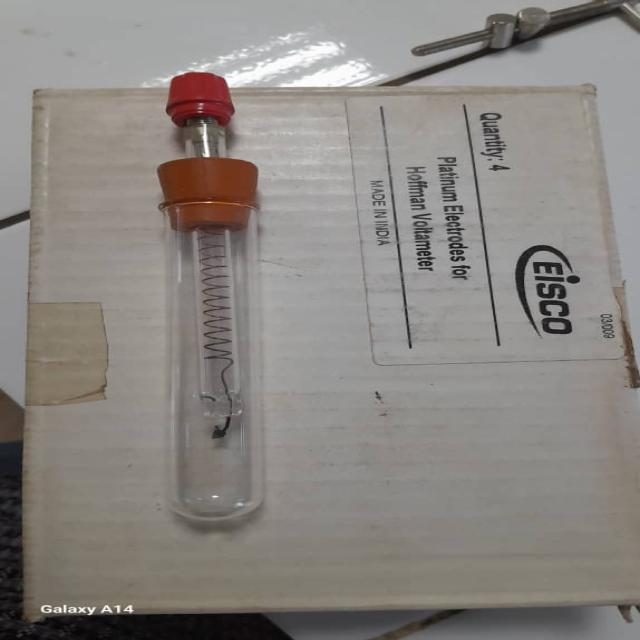Electrode: (149, 67, 280, 523)
